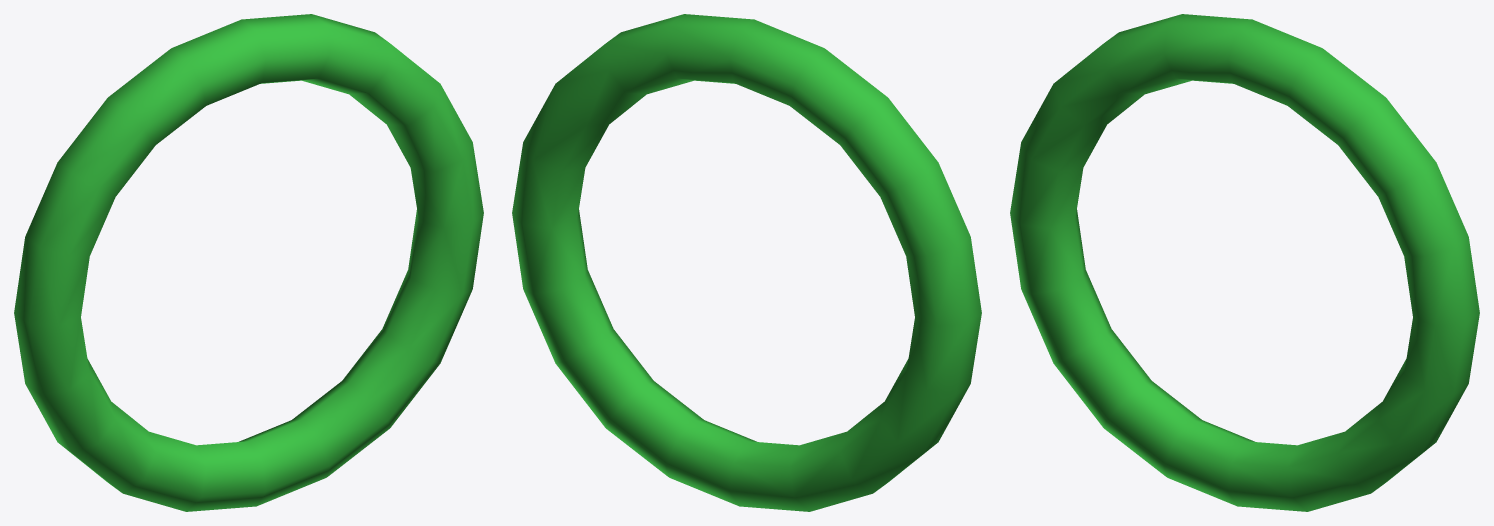
The model's file is Curtain_Ring.fbx.
The picture shows the model from 3 angles, left to right: view 1: azimuth 30°, elevation 25°; view 2: azimuth 150°, elevation 25°; view 3: azimuth 330°, elevation 25°; orthographic projection.
Visible parts, largest first — view 1: Curtain_Ring; view 2: Curtain_Ring; view 3: Curtain_Ring.
Boxes of the visible parts, bbox=[...] form: Curtain_Ring: bbox=[14, 14, 483, 511]; Curtain_Ring: bbox=[512, 14, 981, 511]; Curtain_Ring: bbox=[1010, 14, 1479, 511].
Bounding box in the file's own units: 17.1 × 17.1 × 2.2.
